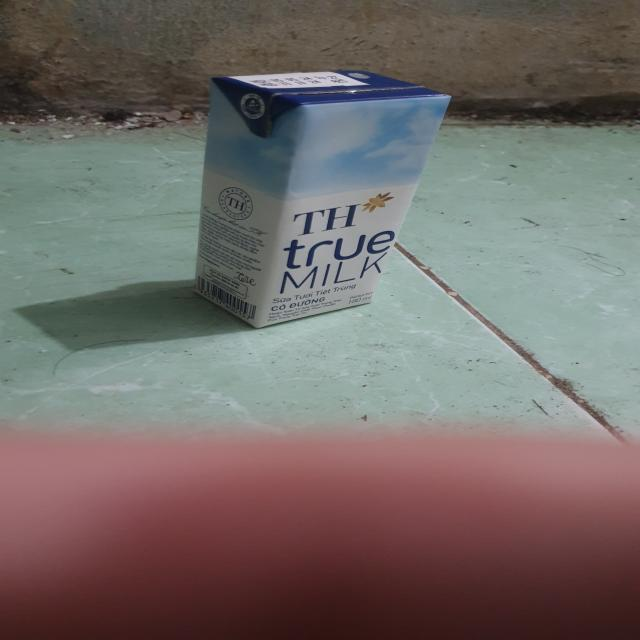TH: (194, 70, 452, 331)
